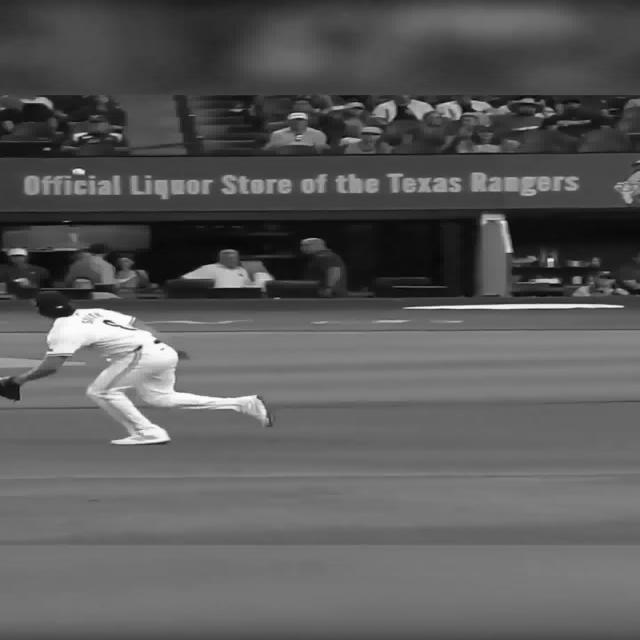baseball: (71, 168, 87, 175)
baseball_glove: (0, 376, 20, 401)
shoe: (240, 395, 271, 428), (111, 432, 171, 445)
